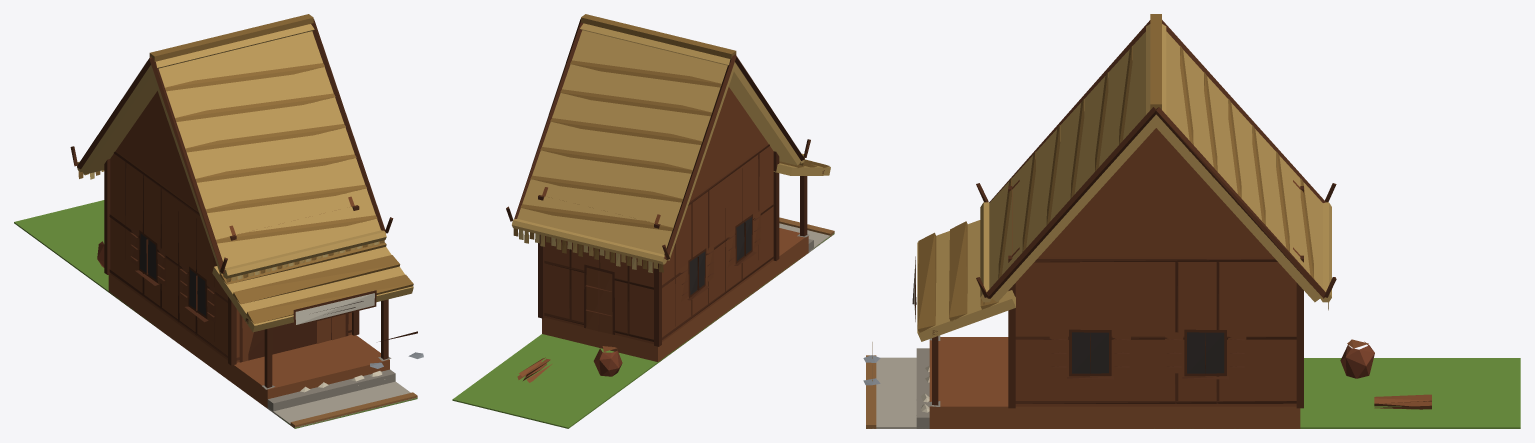
File: bay2_one.glb
The picture shows the model from 3 angles, left to right: view 1: azimuth 30°, elevation 25°; view 2: azimuth 150°, elevation 25°; view 3: azimuth 270°, elevation 25°; orthographic projection. The views are drawn at different scales.
Visible parts, largest first — view 1: body, windows; view 2: body, windows; view 3: body, windows.
Boxes of the visible parts, x1,y1,x2,y2 form: body: (14,14,423,428); windows: (140,233,205,315); body: (452,14,834,428); windows: (689,217,752,294); body: (863,14,1520,428); windows: (1072,332,1224,373).
Size of the model in its own units: 5.54 by 8.98 by 15.96.
